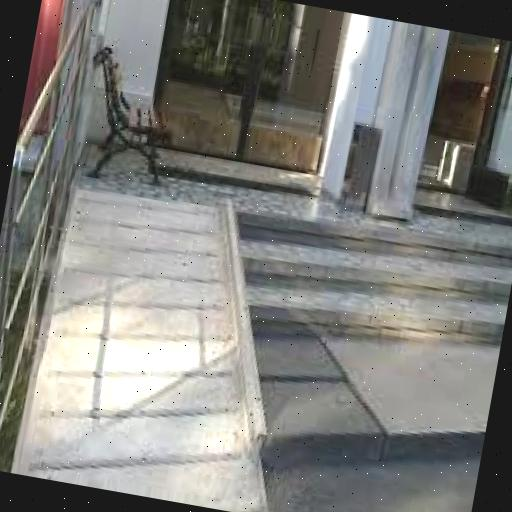ramp: (15, 175, 316, 512)
stairs: (222, 198, 512, 365)
